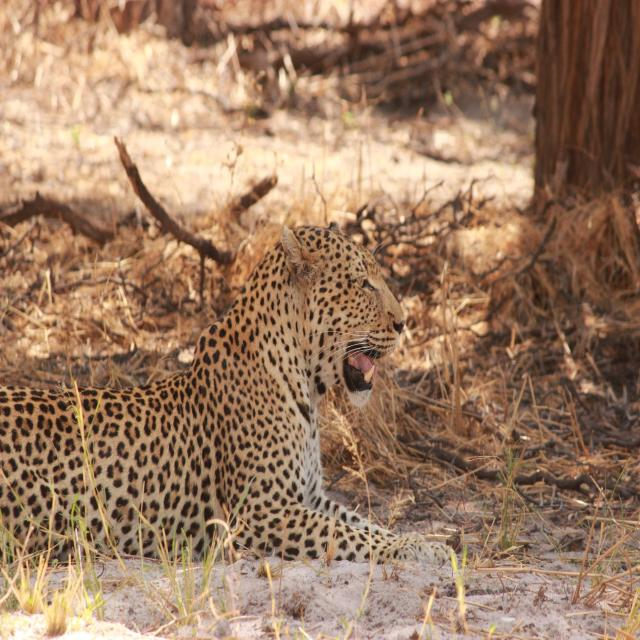Leopard: (7, 209, 457, 597)
